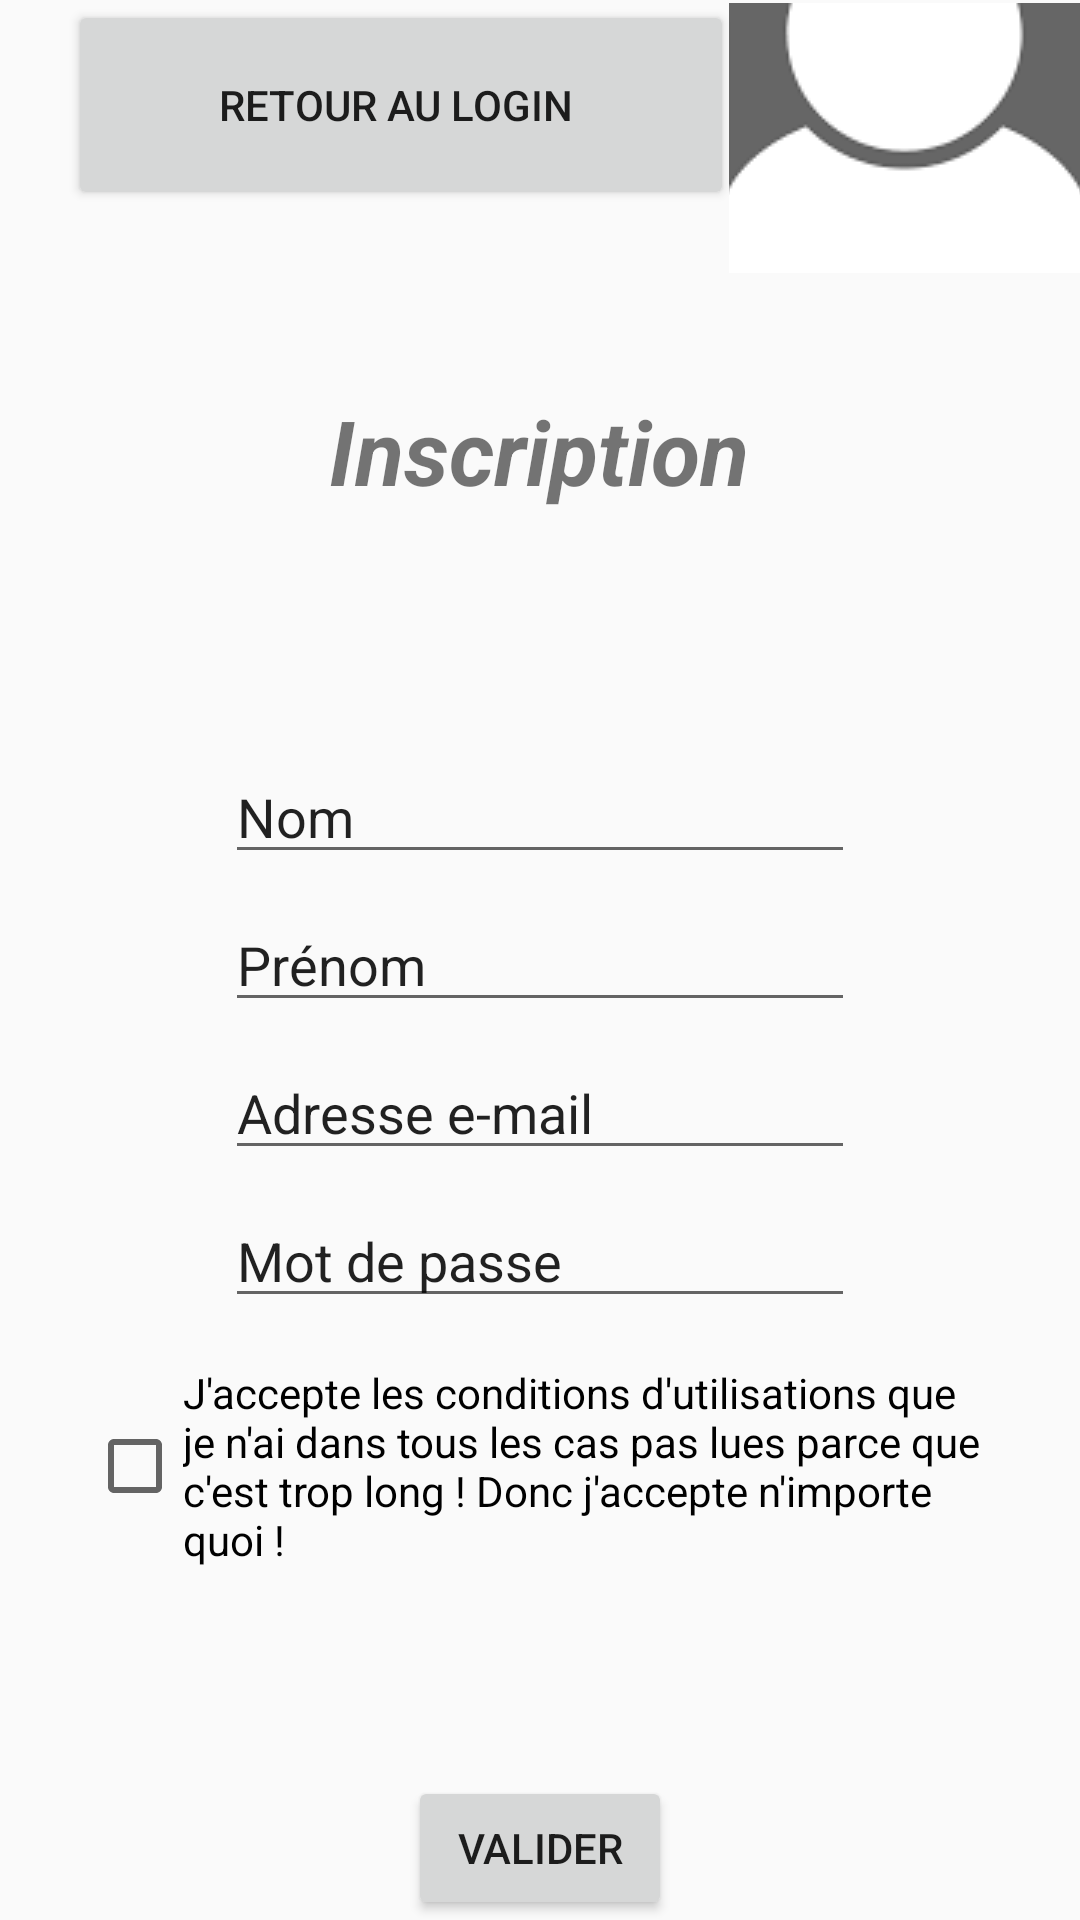

Where to tap for icons on this 1080 x 1920 app screen, as (x=x, y=y):
compte: (x=904, y=97)
